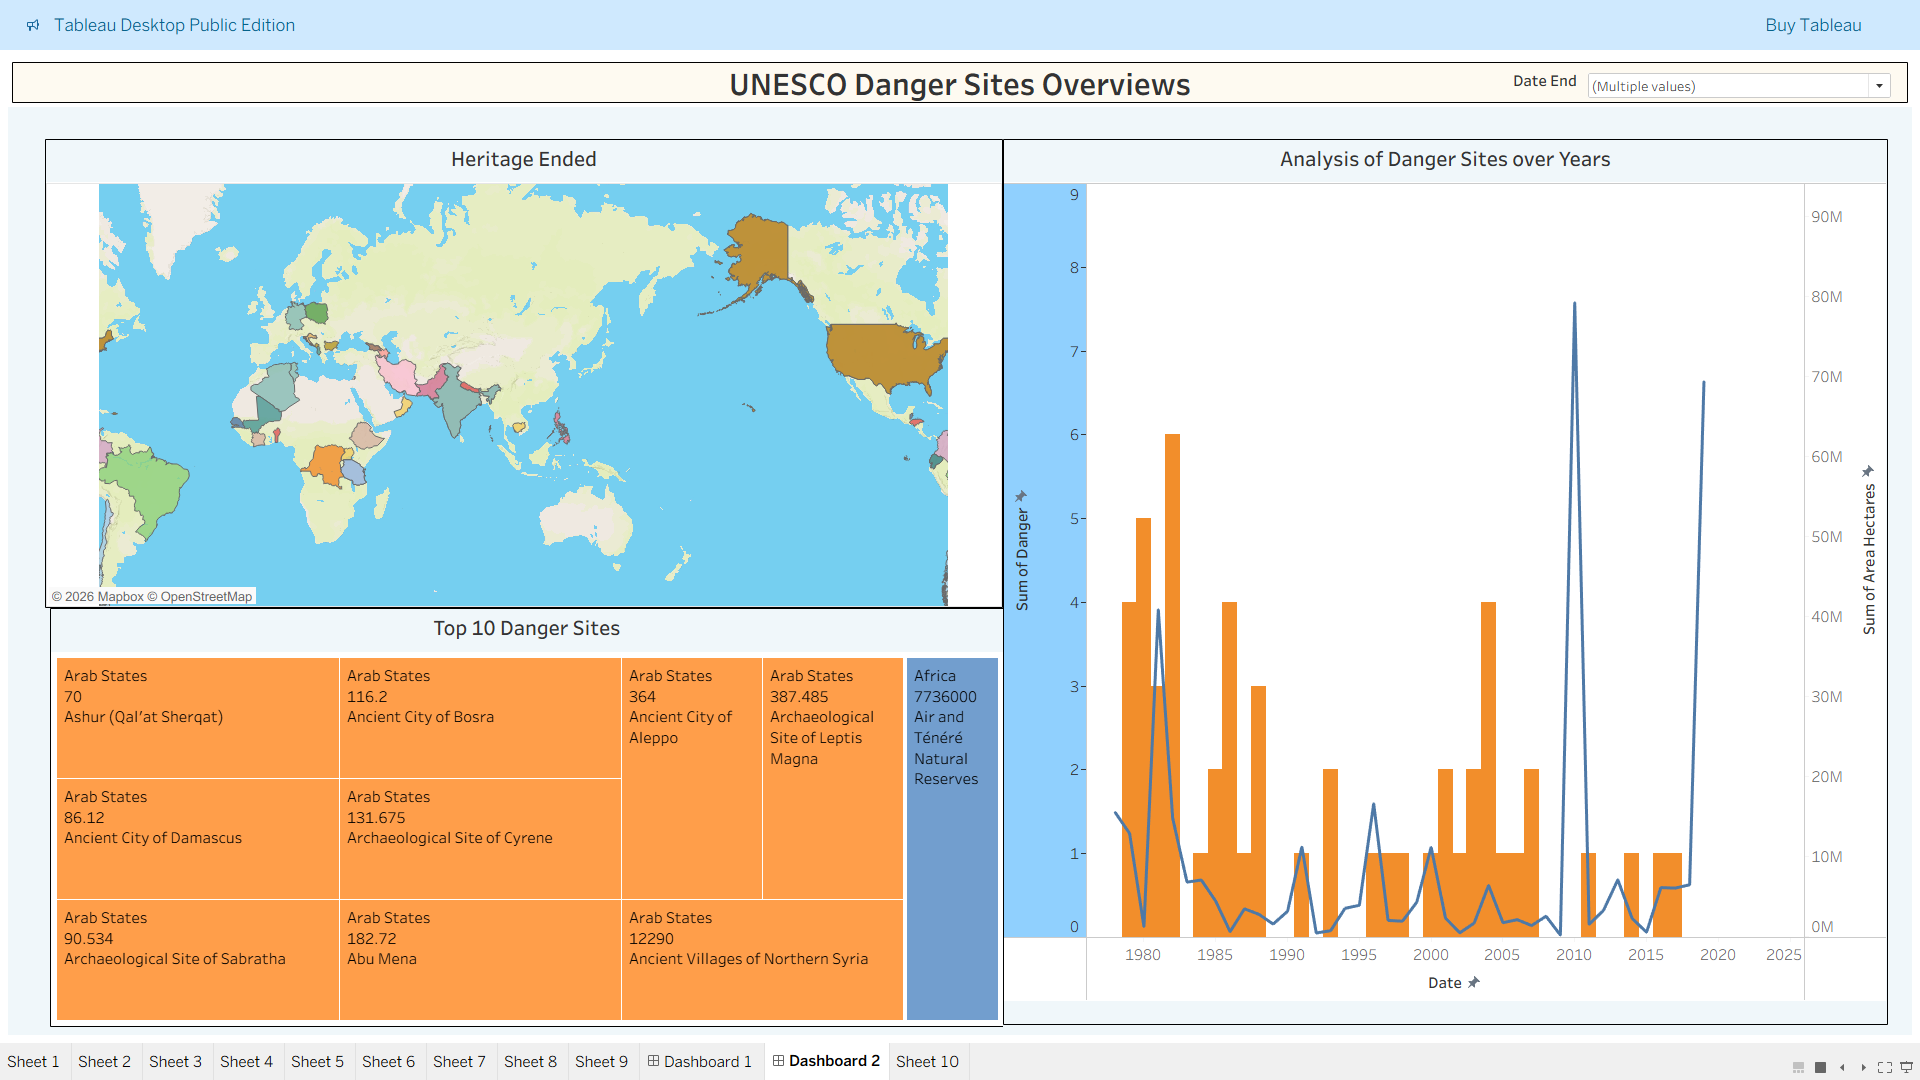

This screenshot's page, from the dashboard's own definition file:
{"tool":"tableau","page":{"name":"Dashboard 2","canvas":[1000,1000],"units":"permille","ordinal":1},"visuals":[{"type":"title","box":[4.8,10,990.3,61.2]},{"type":"filter","title":"Sheet 3","param":"[federated.12dxdo41suk93j1bd6mmw0ryn6y4].[none:date_end:ok]","box":[788.2,20,198.6,38.7]},{"type":"worksheet","title":"Sheet 3","mark":"Multipolygon","box":[23.5,89.9,499.1,471.9]},{"type":"worksheet","title":"Sheet 8","mark":"Automatic","rows":["danger","area_hectares"],"cols":["date_inscribed"],"box":[522.6,89.9,461.1,892.6]},{"type":"worksheet","title":"Sheet 4","mark":"Automatic","box":[25.9,561.8,496.7,422]}]}

Visuals, with their boxes on the dashboard's canvas, which has no fixed pixel size, in thousandths of its width and height (x1, y1, x2, y2). These are canvas units, not pixel positions in the 1920x1080 screenshot, which may show the page scaled, cropped or inside an application window:
title: detection(5, 10, 995, 71)
"Sheet 3" filter: detection(788, 20, 987, 59)
"Sheet 3" worksheet (Multipolygon marks): detection(24, 90, 523, 562)
"Sheet 8" worksheet: detection(523, 90, 984, 982)
"Sheet 4" worksheet: detection(26, 562, 523, 984)
